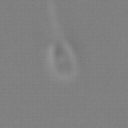normal: (37, 1, 75, 38)
